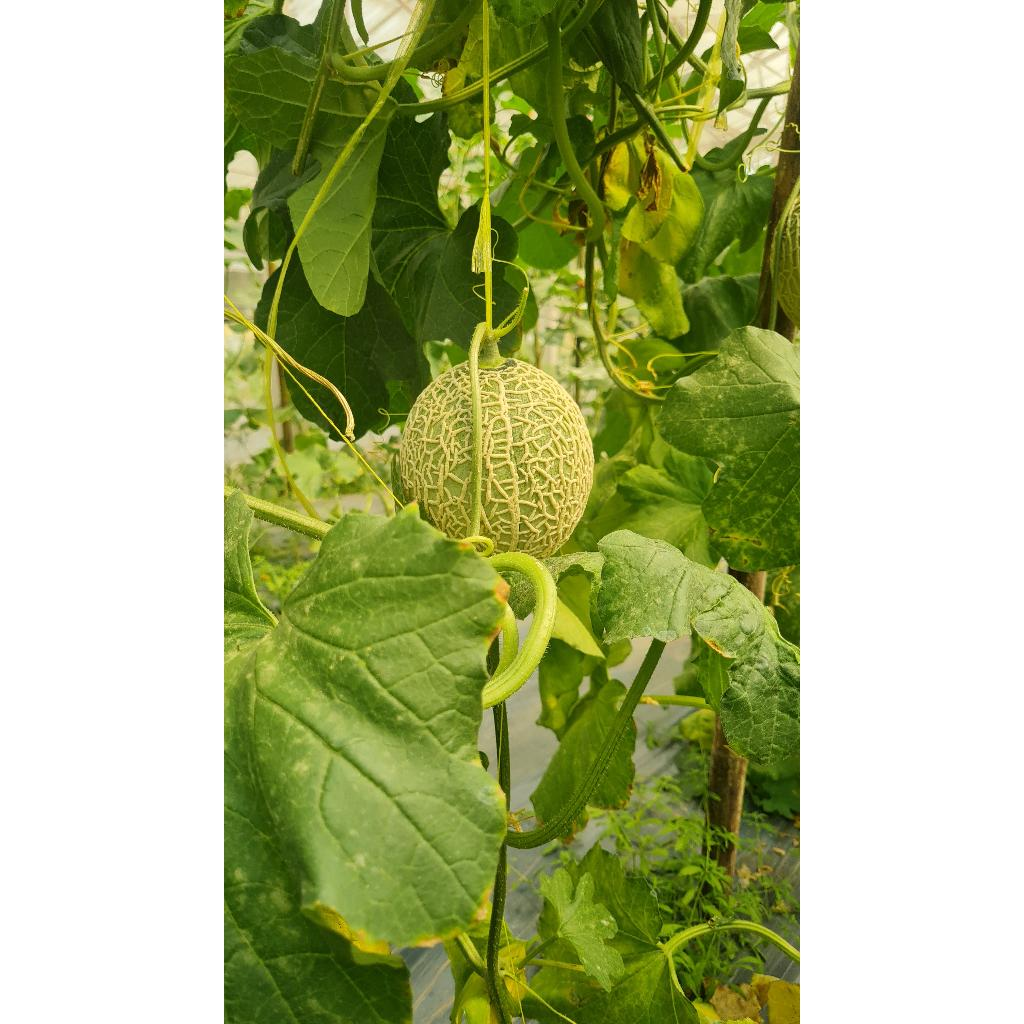melon: (478, 358, 594, 558), (400, 364, 472, 538)
